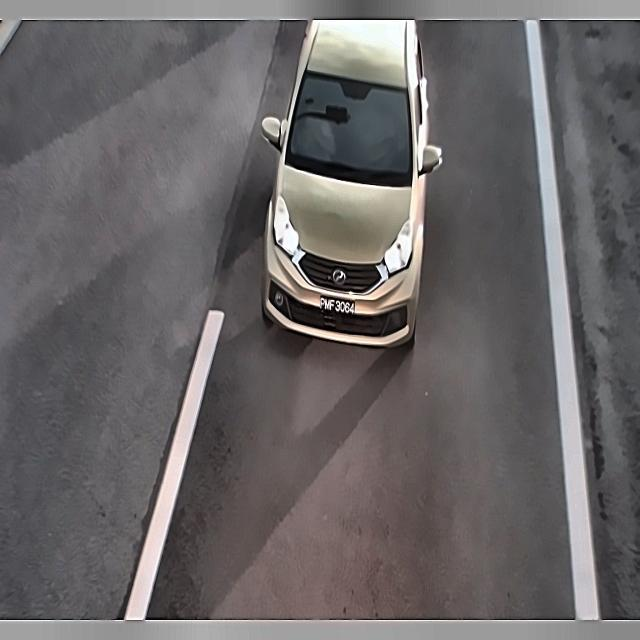car: (314, 286, 357, 325)
